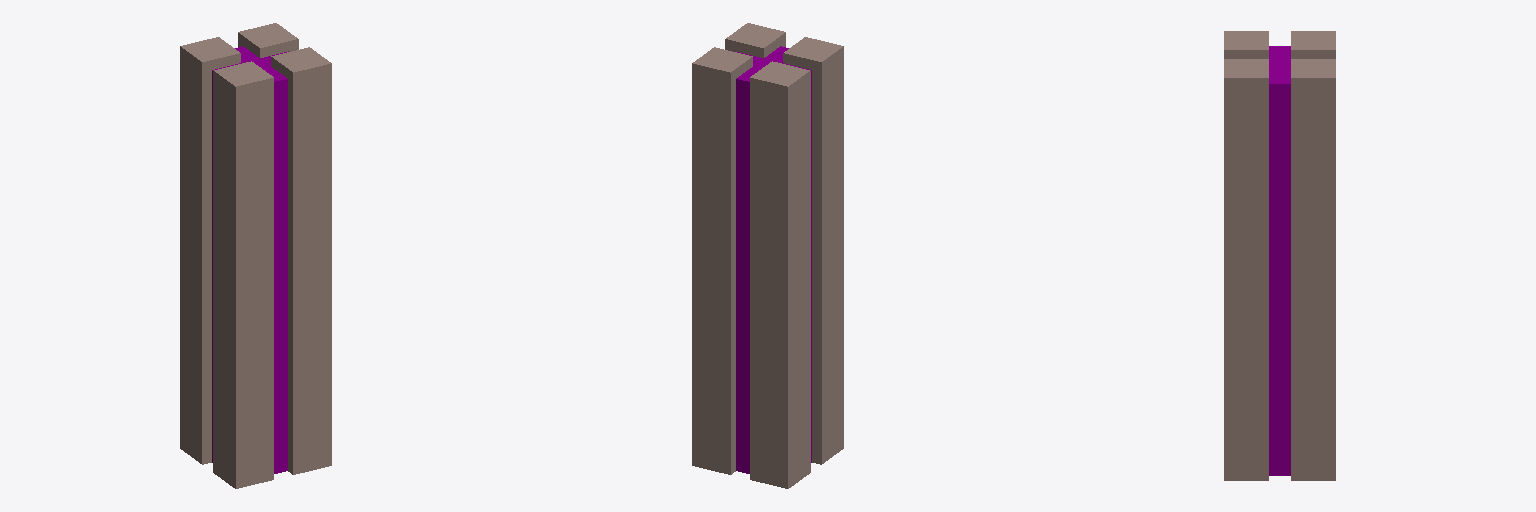
Rendered from low_buildingE_CyPk.obj.
3 renders of one model, left to right at view 1: azimuth 30°, elevation 25°; view 2: azimuth 150°, elevation 25°; view 3: azimuth 270°, elevation 25°, orthographic.
Parts seen in each view (by area): view 1: low_buildingE; view 2: low_buildingE; view 3: low_buildingE.
Part boxes in pixels (bbox=[...]): low_buildingE: bbox=[180, 23, 331, 488]; low_buildingE: bbox=[692, 23, 843, 488]; low_buildingE: bbox=[1224, 31, 1335, 480].
Bounding box in the file's own units: 0.5 × 2 × 0.5.